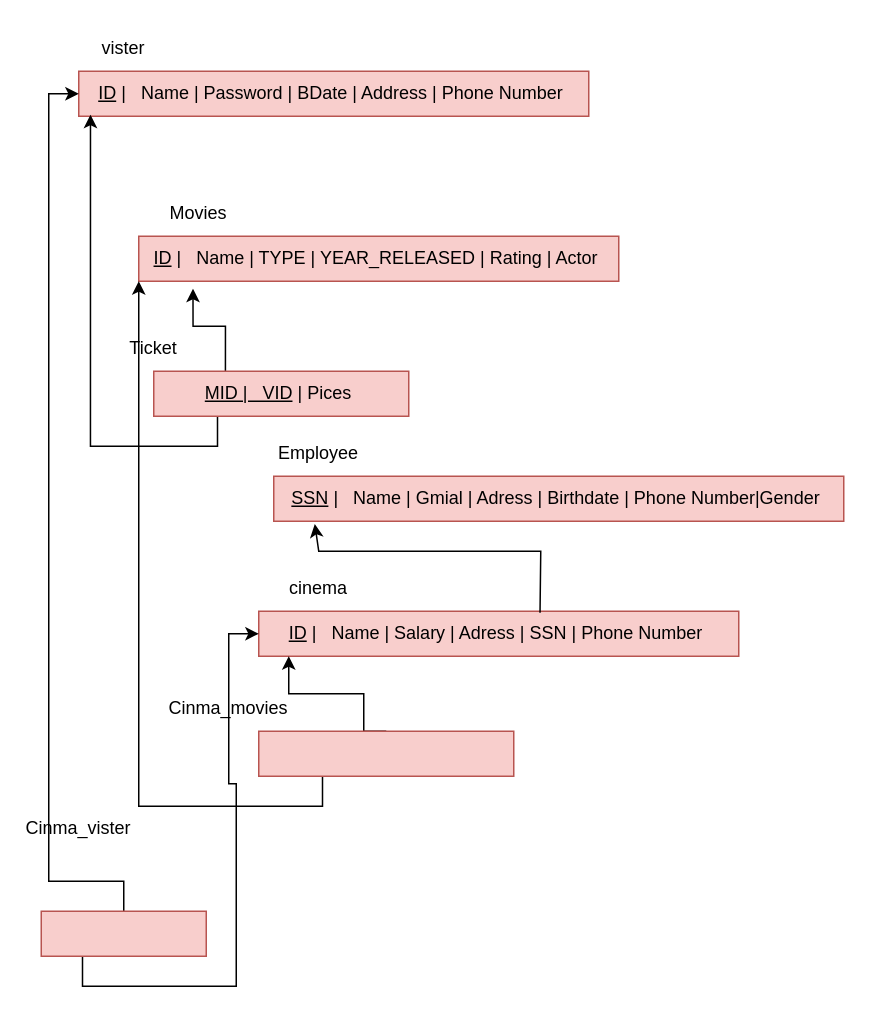
Some shapes in this 870 by 1025 pixel diagram are drawn without their labels. Here are the shapes that lost their labels. From the top down, the centre of each, then its label:
At pixel 385 753: "MID | CID | Time_show".
At pixel 123 933: "CID | VID |".
